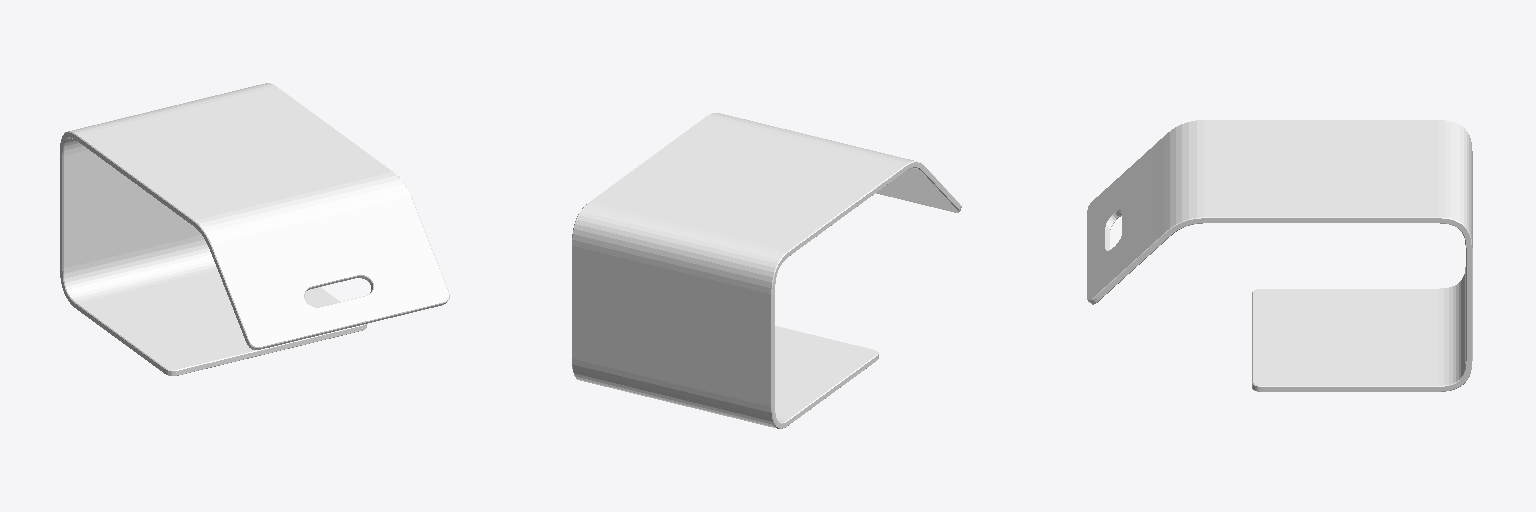
The model's file is Artek_Kanto_Rack_mat(4).obj.
3 renders of one model, left to right at view 1: azimuth 30°, elevation 25°; view 2: azimuth 150°, elevation 25°; view 3: azimuth 270°, elevation 25°, orthographic.
Parts seen in each view (by area): view 1: Artek_Kanto_Rack_mat4; view 2: Artek_Kanto_Rack_mat4; view 3: Artek_Kanto_Rack_mat4.
Boxes of the visible parts, <box> form: Artek_Kanto_Rack_mat4: <box>60,83,449,375</box>; Artek_Kanto_Rack_mat4: <box>572,113,961,428</box>; Artek_Kanto_Rack_mat4: <box>1087,120,1472,391</box>.
Size of the model in its own units: 34 by 28.3 by 56.5.